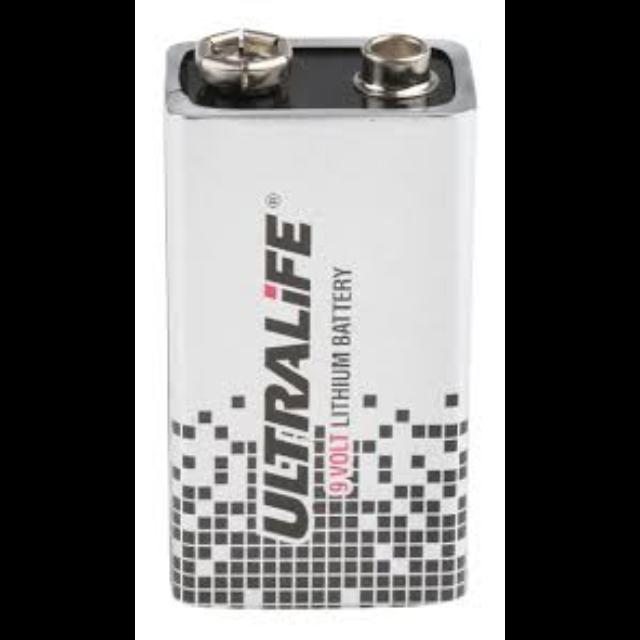Battery: (165, 26, 480, 612)
